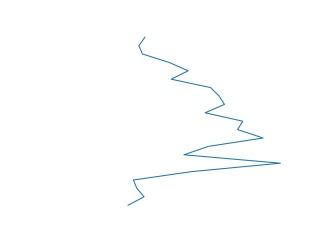floodSwamp: (125, 36, 282, 206)
